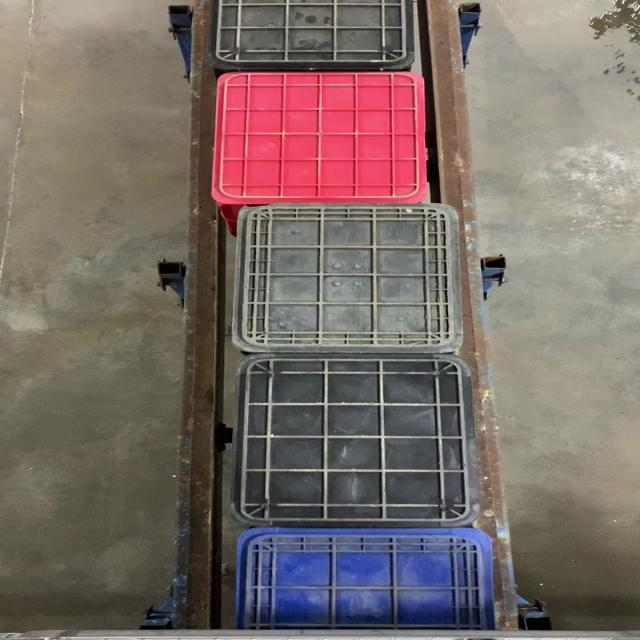Box: (235, 353, 481, 525), (212, 70, 428, 204)
Damaged_box: (231, 204, 463, 352)
